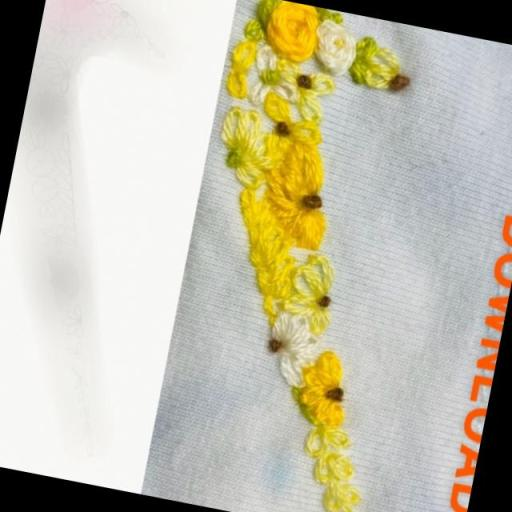Nike: (154, 0, 466, 512)
